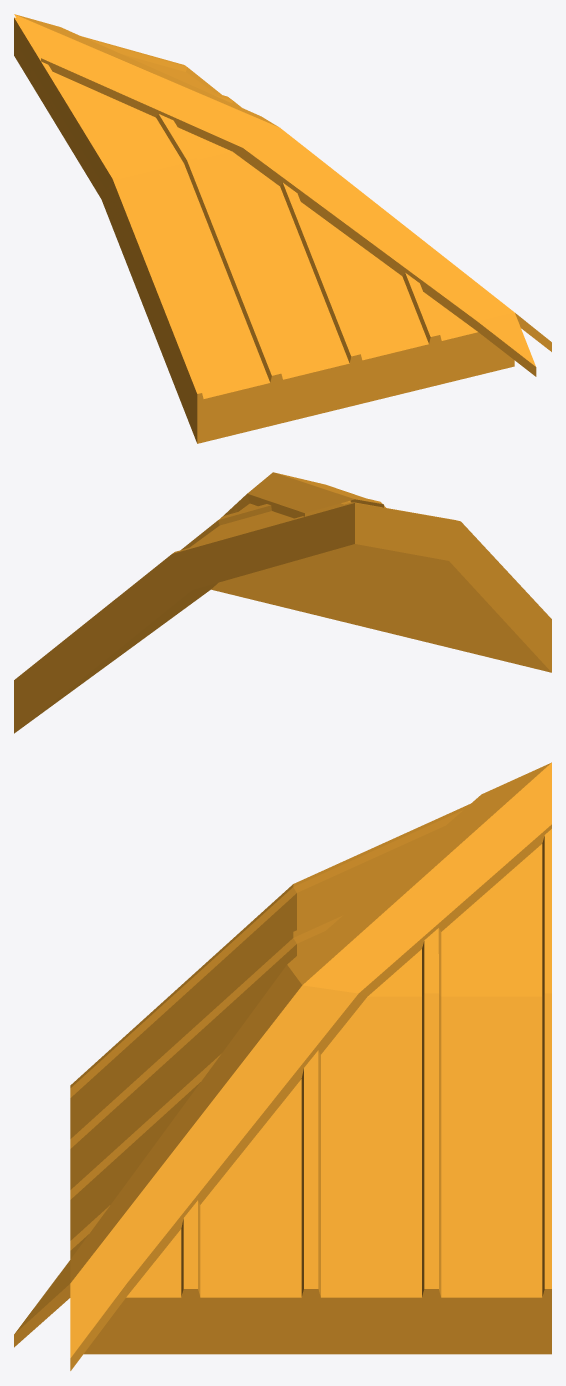
File: SM_Roof_Metal_Regular_Moderate_2x2m_Corner_A.fbx
3 views of the same model, one above another, from view 1: azimuth 30°, elevation 25°; view 2: azimuth 150°, elevation 25°; view 3: azimuth 270°, elevation 25° (orthographic). The views are drawn at different scales.
Parts seen in each view (by area): view 1: roof-metal-regular-moderate-2x2m-corner-a; view 2: roof-metal-regular-moderate-2x2m-corner-a; view 3: roof-metal-regular-moderate-2x2m-corner-a.
Part boxes in pixels (box(x1,y1,x2,y2)): roof-metal-regular-moderate-2x2m-corner-a: box(14, 14, 551, 443); roof-metal-regular-moderate-2x2m-corner-a: box(14, 472, 551, 733); roof-metal-regular-moderate-2x2m-corner-a: box(14, 762, 551, 1370).
Bounding box in the file's own units: 2.23 × 1.78 × 2.23.
